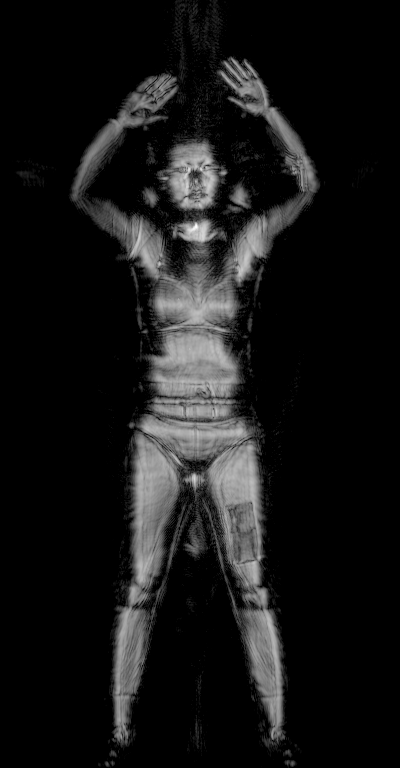head: (154, 135, 229, 217)
others: (223, 498, 266, 567), (281, 151, 309, 191)
person: (68, 55, 318, 768)
